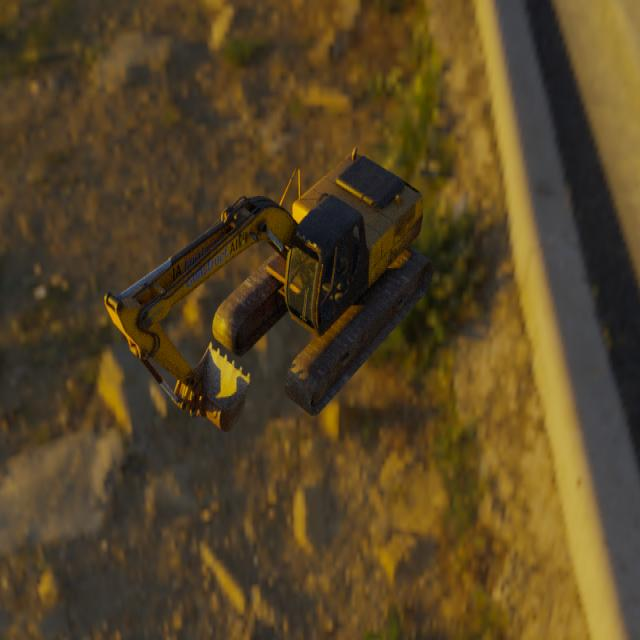excavator: (104, 145, 434, 432)
